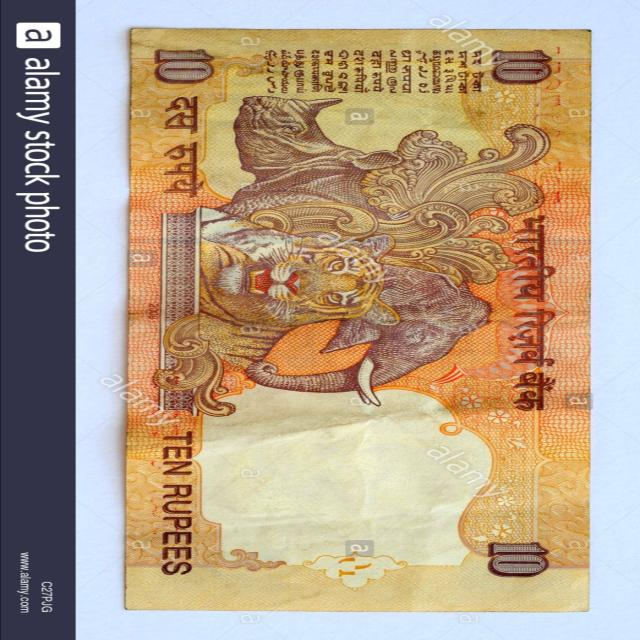10IndianRupees: (120, 24, 597, 610)
